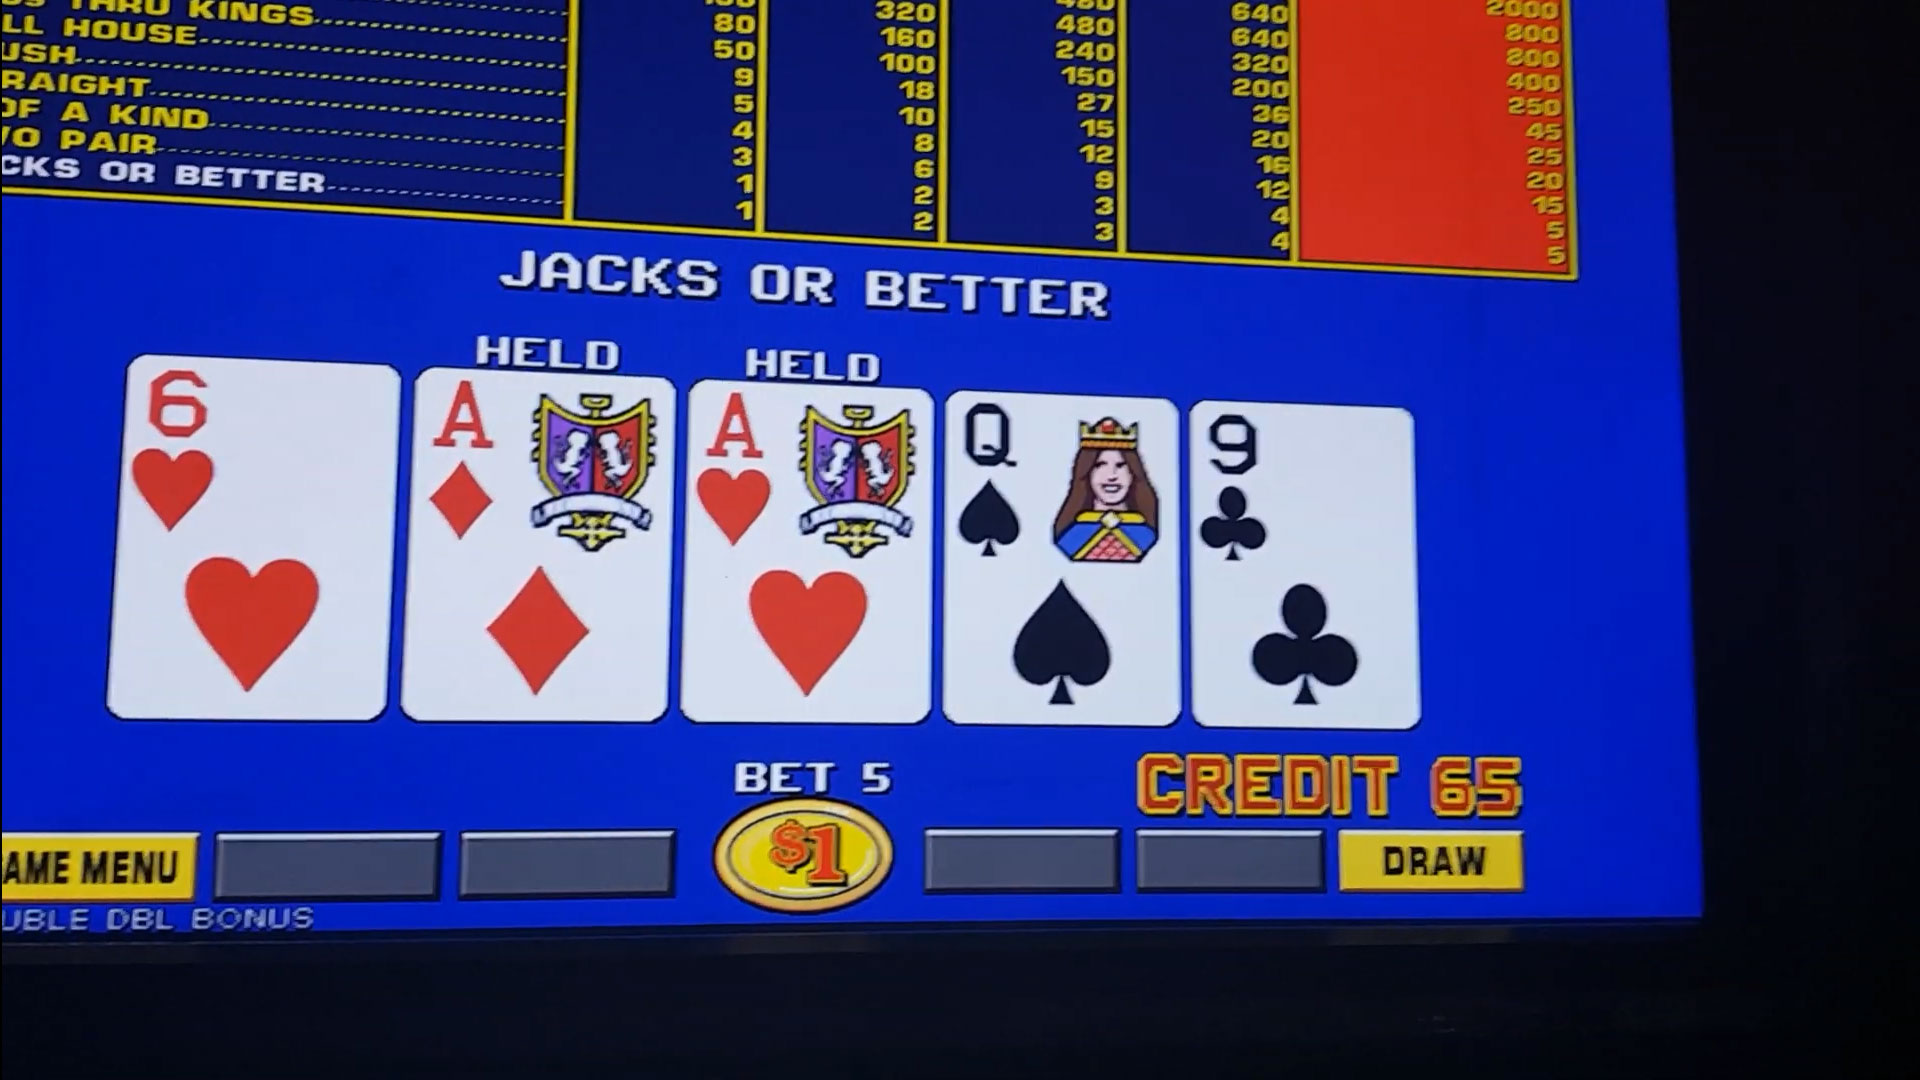C9: (1189, 400, 1404, 578)
DA: (414, 376, 663, 556)
H6: (131, 369, 392, 538)
HA: (673, 384, 934, 564)
SQ: (957, 396, 1178, 583)
